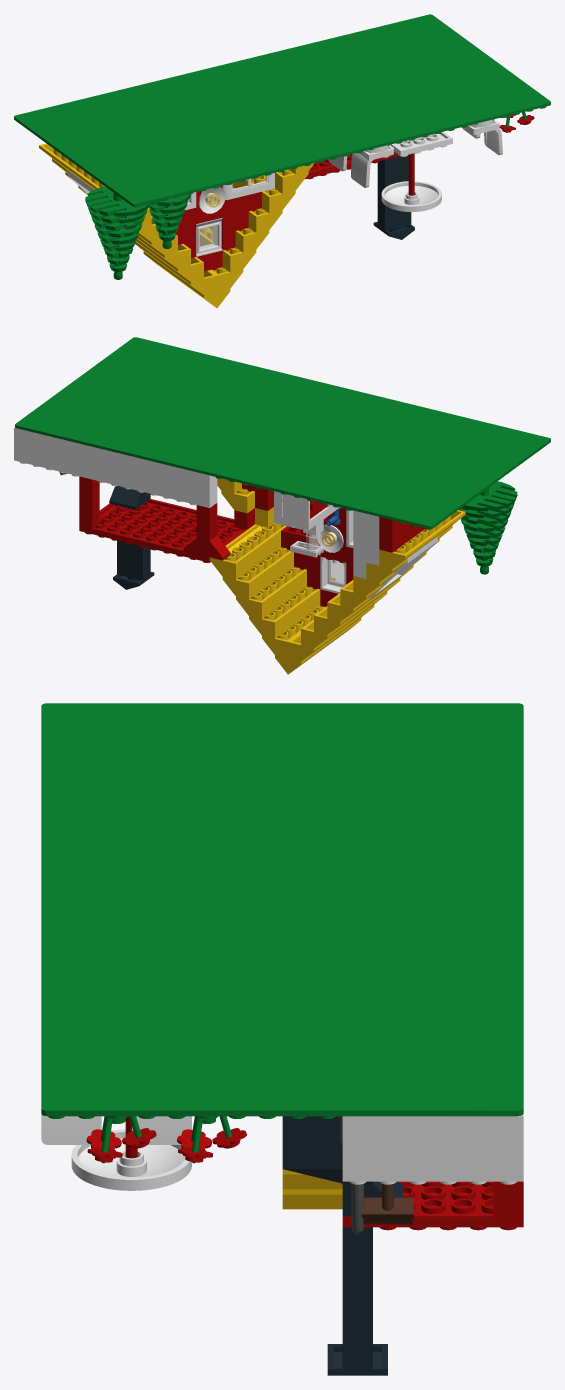
3 renders of one model, top to bottom at view 1: azimuth 30°, elevation 25°; view 2: azimuth 150°, elevation 25°; view 3: azimuth 270°, elevation 25°, orthographic. The views are drawn at different scales.
Bounding box in the file's own units: 644 × 268 × 320.
